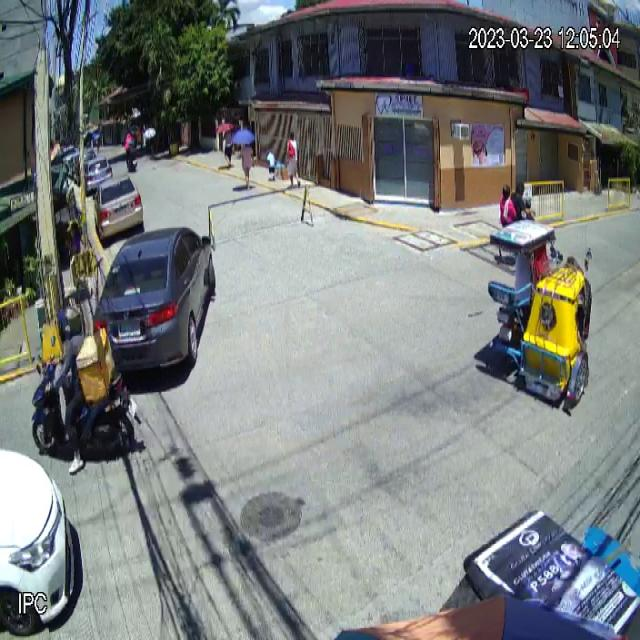Car: (92, 226, 216, 372)
Motorcycle: (31, 336, 142, 458)
Tricycle: (487, 219, 592, 405)
